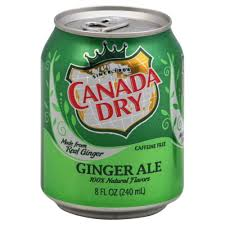Lata: (35, 4, 187, 223)
